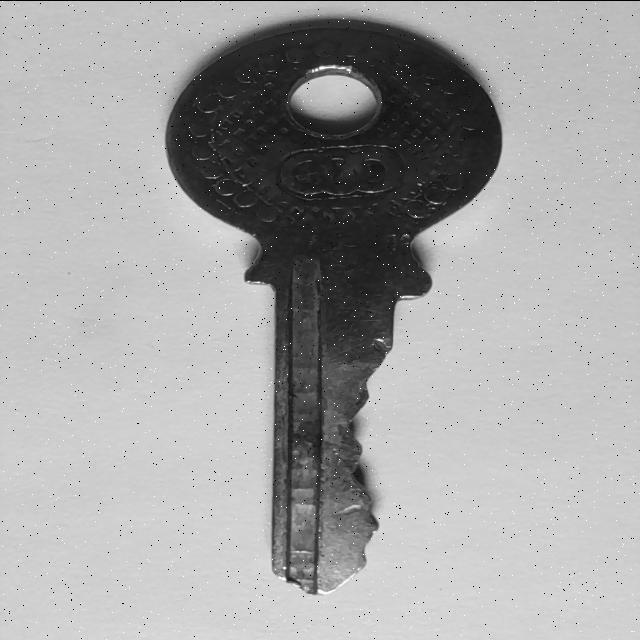key: (167, 24, 502, 594)
